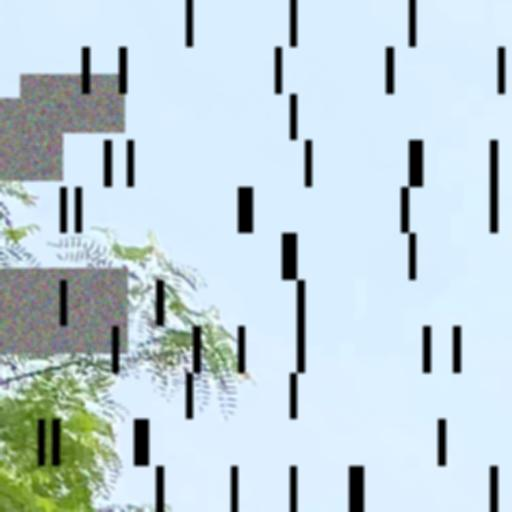tree: (1, 181, 259, 512)
